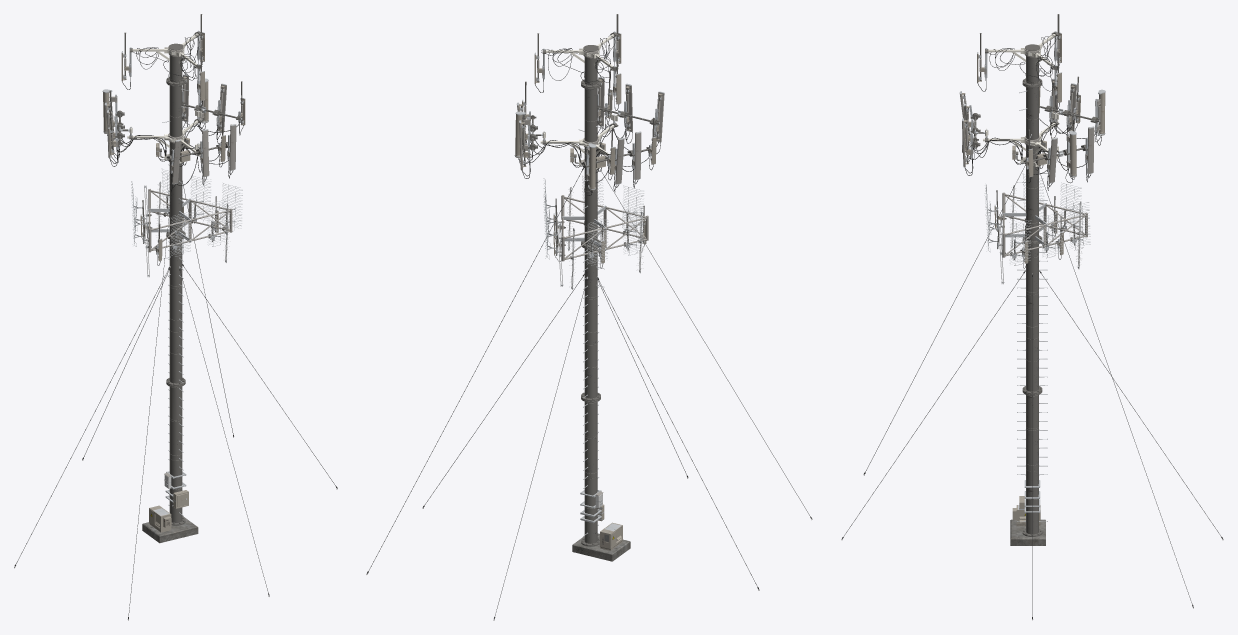
Rendered from Tower 2 new.glb.
3 renders of one model, left to right at view 1: azimuth 30°, elevation 25°; view 2: azimuth 150°, elevation 25°; view 3: azimuth 270°, elevation 25°, orthographic. The views are drawn at different scales.
Visible parts, largest first — view 1: antenna2_metal6_0, antenna2_metal1_0, antenna2_plastic_0, antenna2_alum2_0, antenna2_metal7_0, antenna2_alum_0, antenna2_rust_0, antenna2_Concrete_0, antenna2_metal2_0; view 2: antenna2_metal6_0, antenna2_metal1_0, antenna2_plastic_0, antenna2_alum2_0, antenna2_metal7_0, antenna2_alum_0, antenna2_rust_0, antenna2_metal2_0, antenna2_Concrete_0; view 3: antenna2_metal6_0, antenna2_alum2_0, antenna2_plastic_0, antenna2_metal1_0, antenna2_metal7_0, antenna2_alum_0, antenna2_rust_0, antenna2_Concrete_0, antenna2_metal2_0.
Boxes of the visible parts, x1,y1,x2,y2 form: antenna2_metal6_0: [108, 14, 242, 525]; antenna2_metal1_0: [104, 37, 243, 487]; antenna2_plastic_0: [14, 33, 337, 619]; antenna2_alum2_0: [114, 30, 242, 502]; antenna2_metal7_0: [103, 33, 245, 532]; antenna2_alum_0: [102, 32, 244, 515]; antenna2_rust_0: [127, 33, 201, 163]; antenna2_Concrete_0: [142, 516, 198, 543]; antenna2_metal2_0: [14, 117, 337, 620]; antenna2_metal6_0: [521, 14, 660, 546]; antenna2_metal1_0: [517, 38, 664, 503]; antenna2_plastic_0: [367, 35, 811, 619]; antenna2_alum2_0: [526, 31, 659, 523]; antenna2_metal7_0: [515, 33, 662, 550]; antenna2_alum_0: [514, 33, 664, 536]; antenna2_rust_0: [540, 34, 617, 169]; antenna2_metal2_0: [366, 111, 812, 620]; antenna2_Concrete_0: [572, 533, 630, 561]; antenna2_metal6_0: [963, 14, 1100, 536]; antenna2_alum2_0: [969, 31, 1100, 512]; antenna2_plastic_0: [842, 35, 1222, 619]; antenna2_metal1_0: [960, 37, 1100, 259]; antenna2_metal7_0: [962, 33, 1105, 526]; antenna2_alum_0: [959, 32, 1105, 521]; antenna2_rust_0: [983, 34, 1058, 166]; antenna2_Concrete_0: [1010, 519, 1045, 545]; antenna2_metal2_0: [841, 116, 1223, 620].
Bounding box in the file's own units: 0.6525 × 0.9554 × 0.6525.
10 materials, 7 textured.
